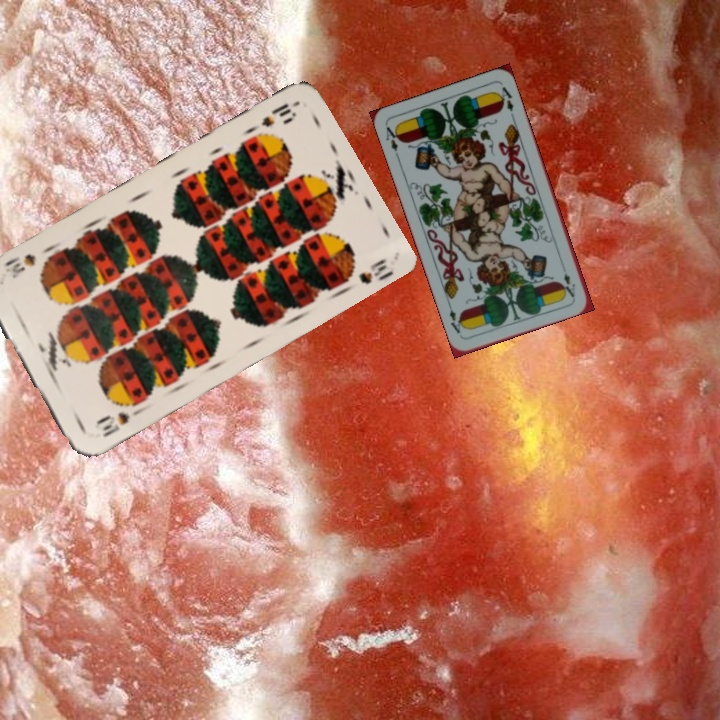EA: (382, 122, 403, 161), (560, 269, 578, 300)
S10: (93, 404, 144, 440), (257, 99, 298, 130)
